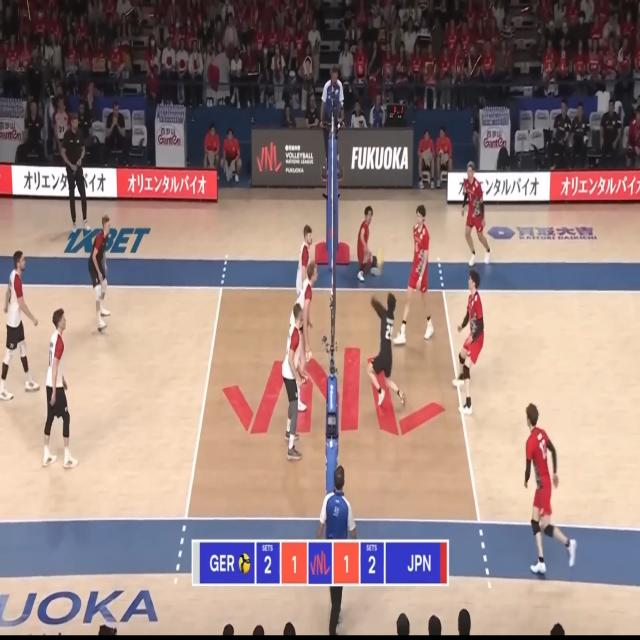ball: (378, 246, 383, 268)
